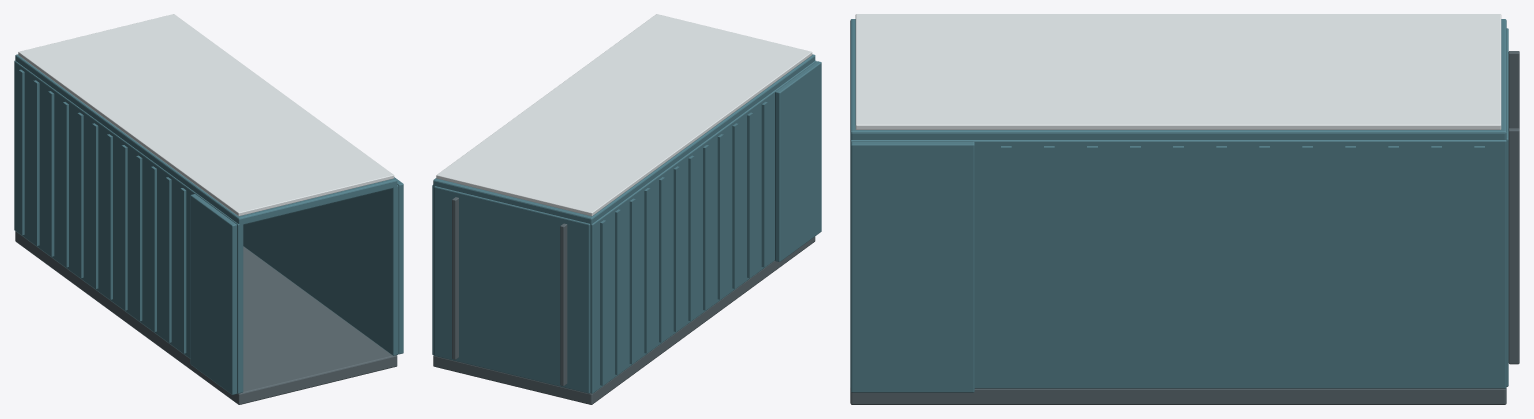
File: container_blue_open.glb
3 views of the same model, side by side, from view 1: azimuth 30°, elevation 25°; view 2: azimuth 150°, elevation 25°; view 3: azimuth 270°, elevation 25° (orthographic). The views are drawn at different scales.
Visible parts, largest first — view 1: container_blue_open; view 2: container_blue_open; view 3: container_blue_open.
Boxes of the visible parts, bbox=[...] form: container_blue_open: bbox=[14, 14, 403, 404]; container_blue_open: bbox=[432, 14, 821, 404]; container_blue_open: bbox=[850, 14, 1519, 404].
Size of the model in its own units: 2.7 by 2.87 by 6.22.
